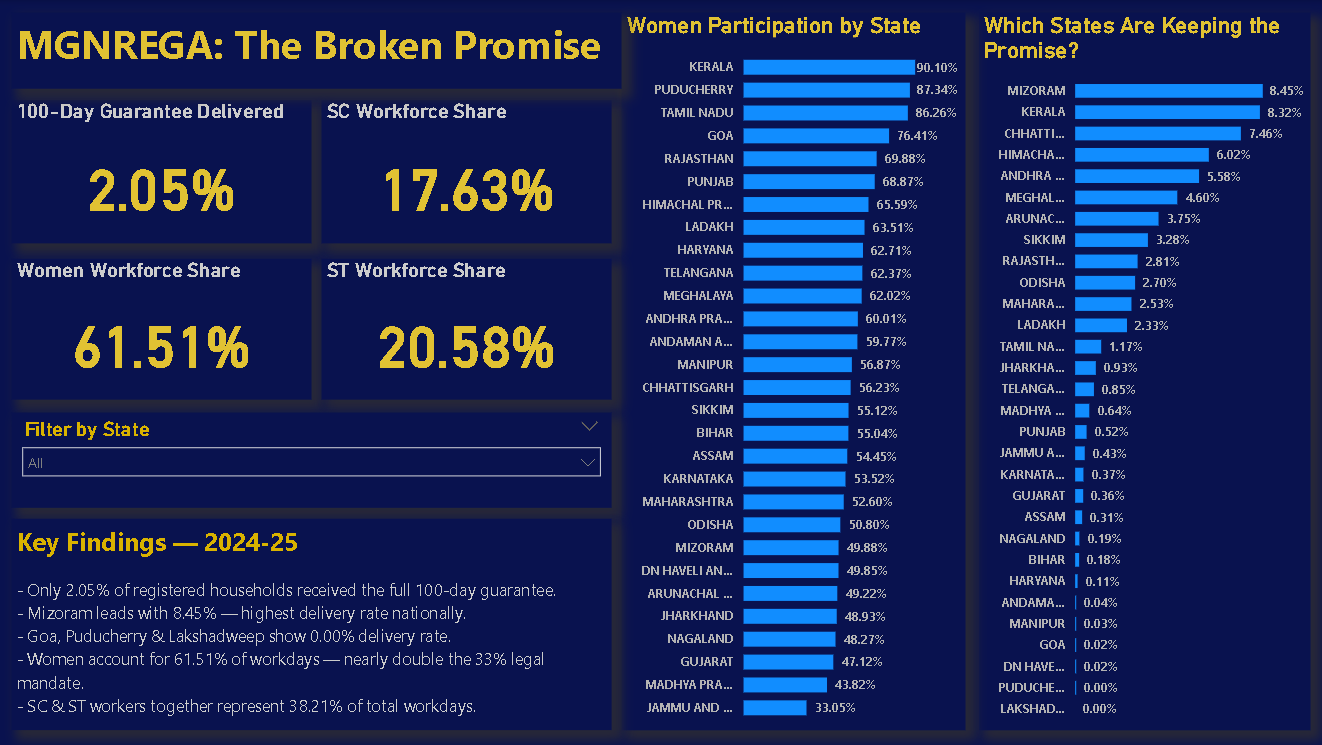

What the dashboard file says about the page in this screenshot:
{"tool":"powerbi","page":{"name":"Page 1","canvas":[1280,720],"ordinal":0},"visuals":[{"type":"card","title":"100-Day Guarantee Delivered","fields":{"Values":["MGNREGA.100_Day_Delivery_Rate"]},"box":[12.1,96.5,289.5,138.7],"z":0},{"type":"clusteredBarChart","title":"Which States Are Keeping the Promise?","fields":{"Category":["MGNREGA.state_name"],"Y":["MGNREGA.100_Day_Delivery_Rate"]},"box":[945.8,12.1,319.7,692.5],"z":1000},{"type":"barChart","title":"Women Participation by State","fields":{"Category":["MGNREGA.state_name"],"Y":["MGNREGA.Women_Work_Share"]},"box":[600.8,12.1,331.8,692.5],"z":2000},{"type":"card","title":"Women Workforce Share","fields":{"Values":["MGNREGA.Women_Work_Share"]},"box":[12.1,249.7,289.5,136.3],"z":3000},{"type":"card","title":"SC Workforce Share","fields":{"Values":["MGNREGA.SC_Work_Share"]},"box":[311.3,96.5,279.9,138.7],"z":4000},{"type":"card","title":"ST Workforce Share","fields":{"Values":["MGNREGA.ST_Work_Share"]},"box":[311.3,249.7,279.9,136.3],"z":5000},{"type":"slicer","title":"Filter by State","fields":{"Values":["MGNREGA.state_name"]},"box":[12.1,398.1,579.1,91.7],"z":6000},{"type":"textbox","box":[12.1,12.1,588.7,73.6],"z":7000},{"type":"textbox","box":[12.1,500.7,579.1,203.9],"z":8000}]}

Visuals, with their boxes in screenshot pixels (x1, y1, x2, y2), scaled from the page's 1280x720 canvas onto the 1322x745 screenshot:
"100-Day Guarantee Delivered" card: (12,100,311,243)
"Which States Are Keeping the Promise?" clusteredBarChart: (977,13,1307,729)
"Women Participation by State" barChart: (621,13,963,729)
"Women Workforce Share" card: (12,258,311,399)
"SC Workforce Share" card: (322,100,611,243)
"ST Workforce Share" card: (322,258,611,399)
"Filter by State" slicer: (12,412,611,507)
textbox: (12,13,621,89)
textbox: (12,518,611,729)
